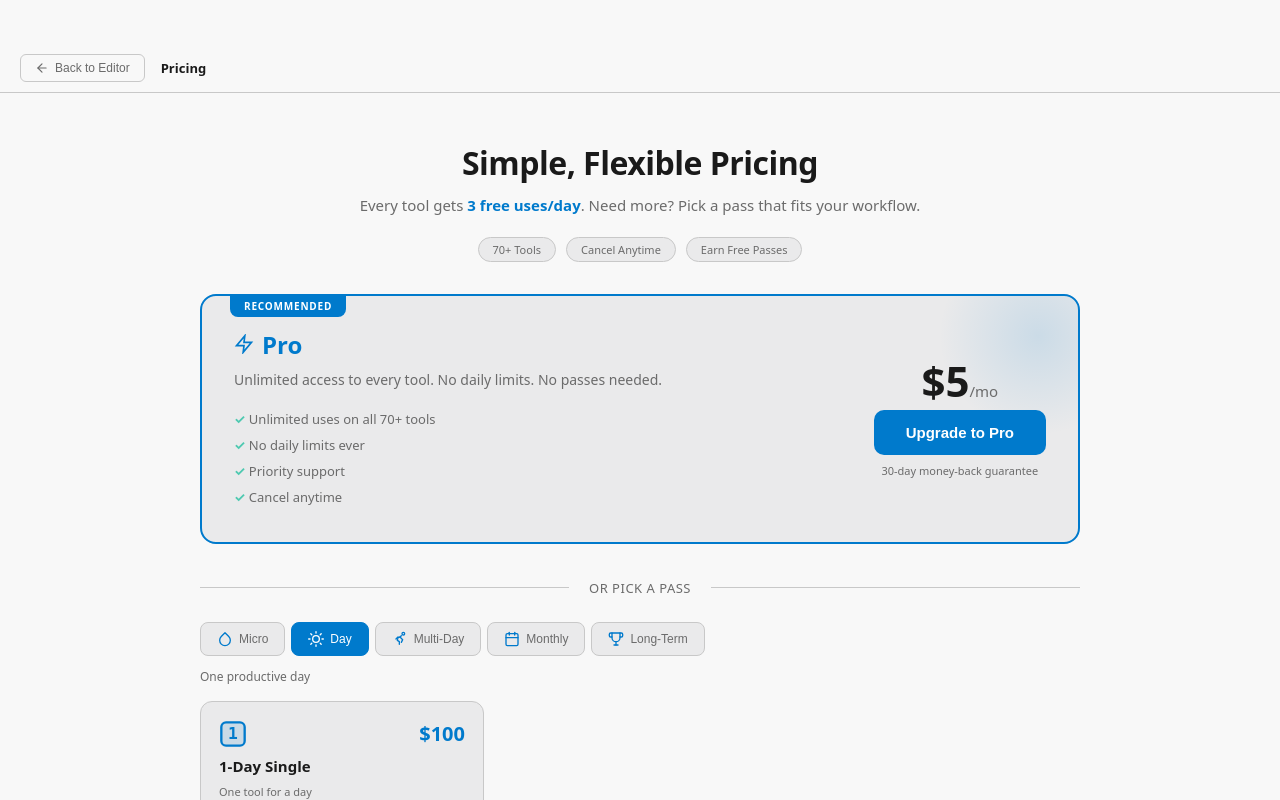
Test: PricingPage › switches to Day tab
This screenshot has width=1280, height=800.
Click the button "Multi-Day" at (428, 638), box [375,622,481,656]
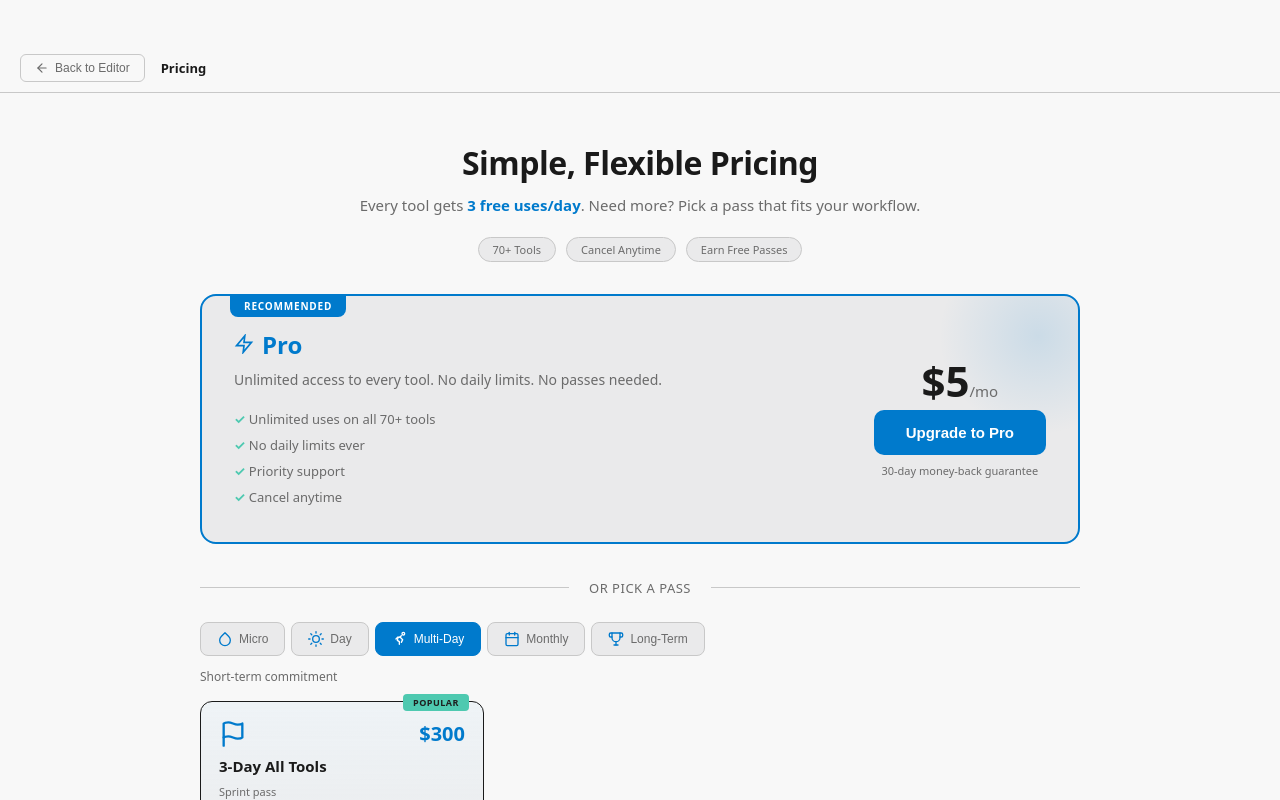
Click the button "Day" at (330, 638), box [291,622,369,656]
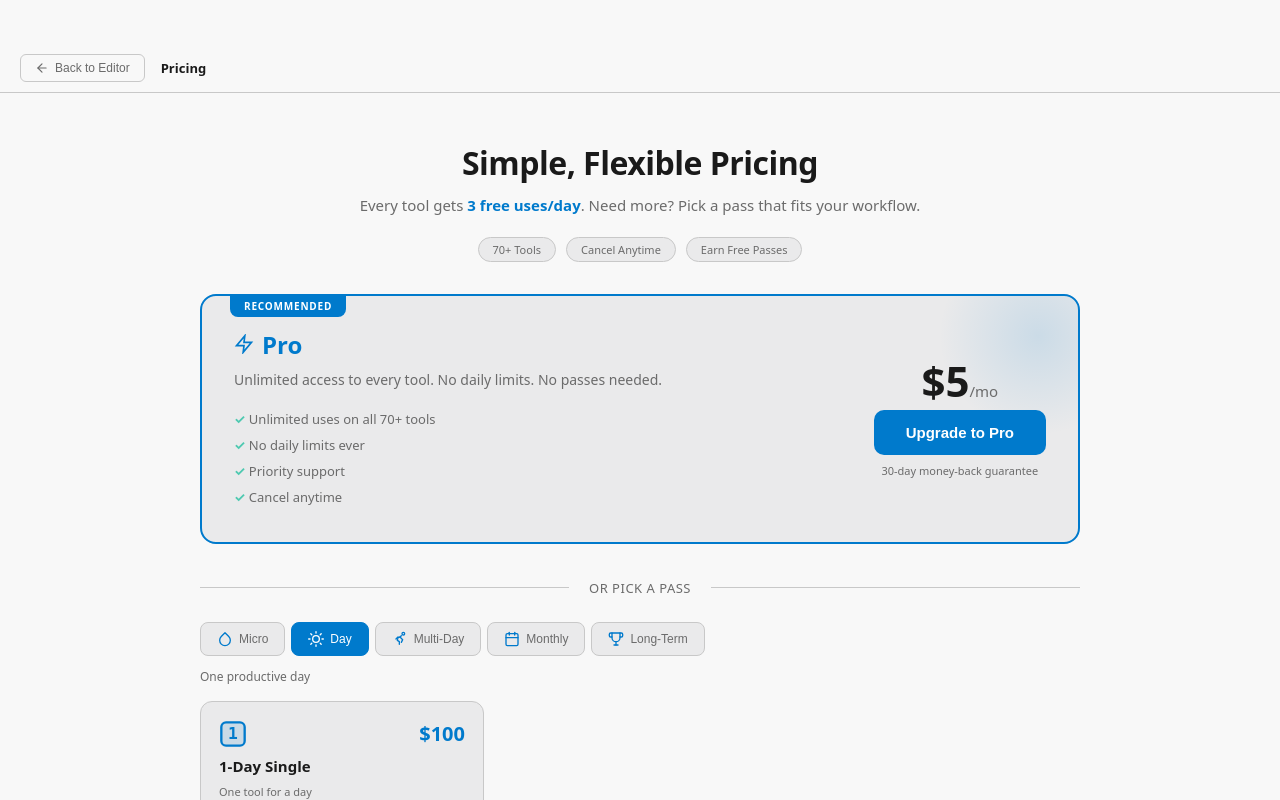
Check: the text "One productive day" is shown, box [200,668,310,684]
